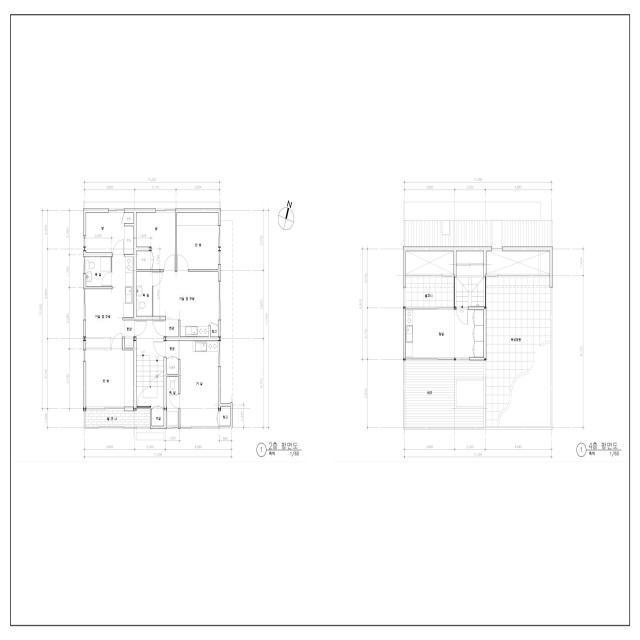space_balconi: (406, 277, 453, 307), (86, 411, 150, 426)
space_bedroom: (86, 350, 133, 407), (177, 213, 218, 269), (136, 212, 175, 269), (86, 213, 133, 254)
space_front: (166, 341, 178, 374), (124, 320, 135, 348), (166, 320, 178, 337)
space_kitchen: (405, 310, 484, 357), (112, 257, 133, 318), (193, 341, 218, 367), (180, 320, 209, 337)
space_living_room: (154, 272, 218, 326), (178, 341, 218, 426), (86, 289, 124, 348)
space_other: (487, 251, 550, 274), (406, 251, 453, 274), (456, 251, 484, 264), (220, 406, 230, 426), (152, 410, 164, 426), (210, 327, 218, 337)
space_staircase: (136, 320, 164, 409), (456, 266, 484, 307)
space_toilet: (86, 257, 111, 286), (136, 272, 152, 316), (167, 377, 178, 426)
